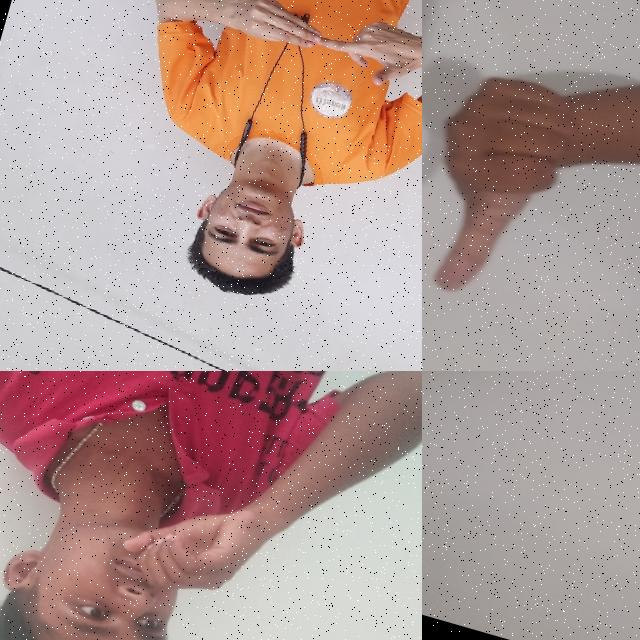Fist Mouth: (0, 421, 299, 640)
Five Fathers: (204, 0, 422, 115)
Thumbs Up: (422, 43, 600, 326)
